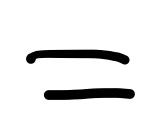eqv: (22, 48, 137, 100)
